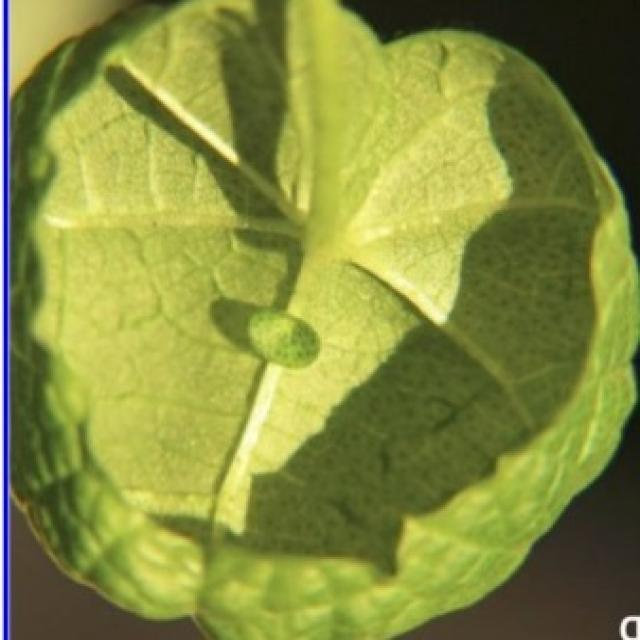Leaf Curl Virus: (88, 33, 594, 572)
